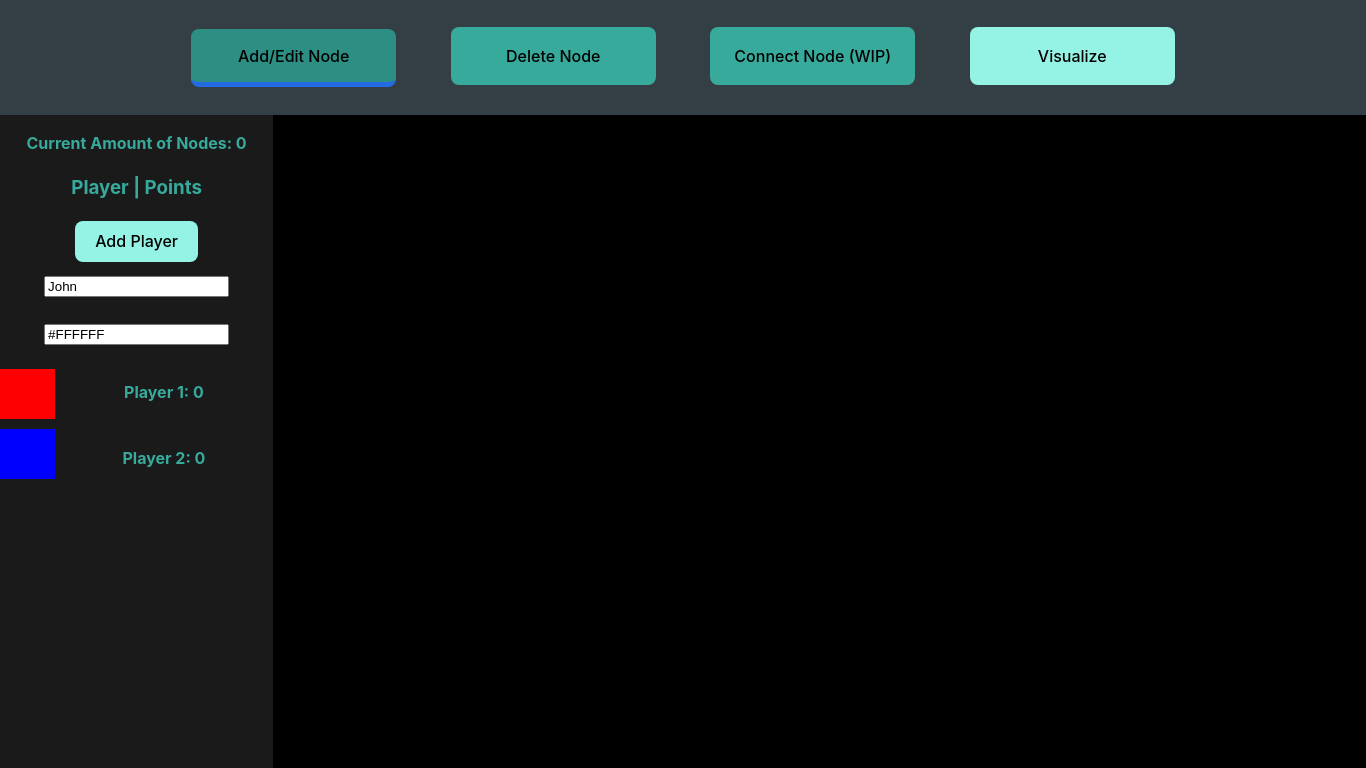
Test case: Check Single NodeMovement › Create a Single Node
The image size is (1366, 768).
Check: the heading "Current Amount of Nodes: 0" is shown, box [26,133,247,153]
Click the element with test id "canvas".
click(820, 442)  # box [273,115,1365,767]
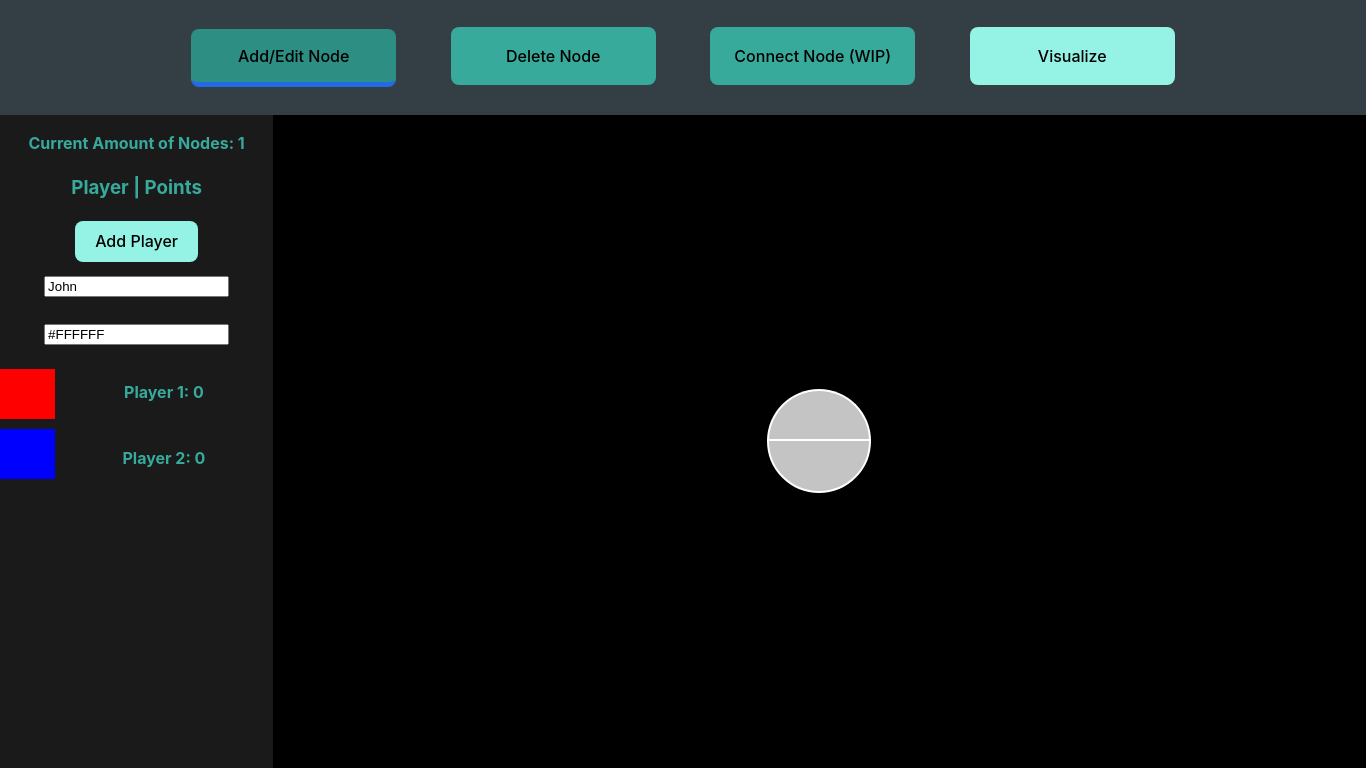
Check: the element with test id "node" is shown, box [769,391,869,491]
Check: the heading "Current Amount of Nodes: 1" is shown, box [28,133,245,153]
